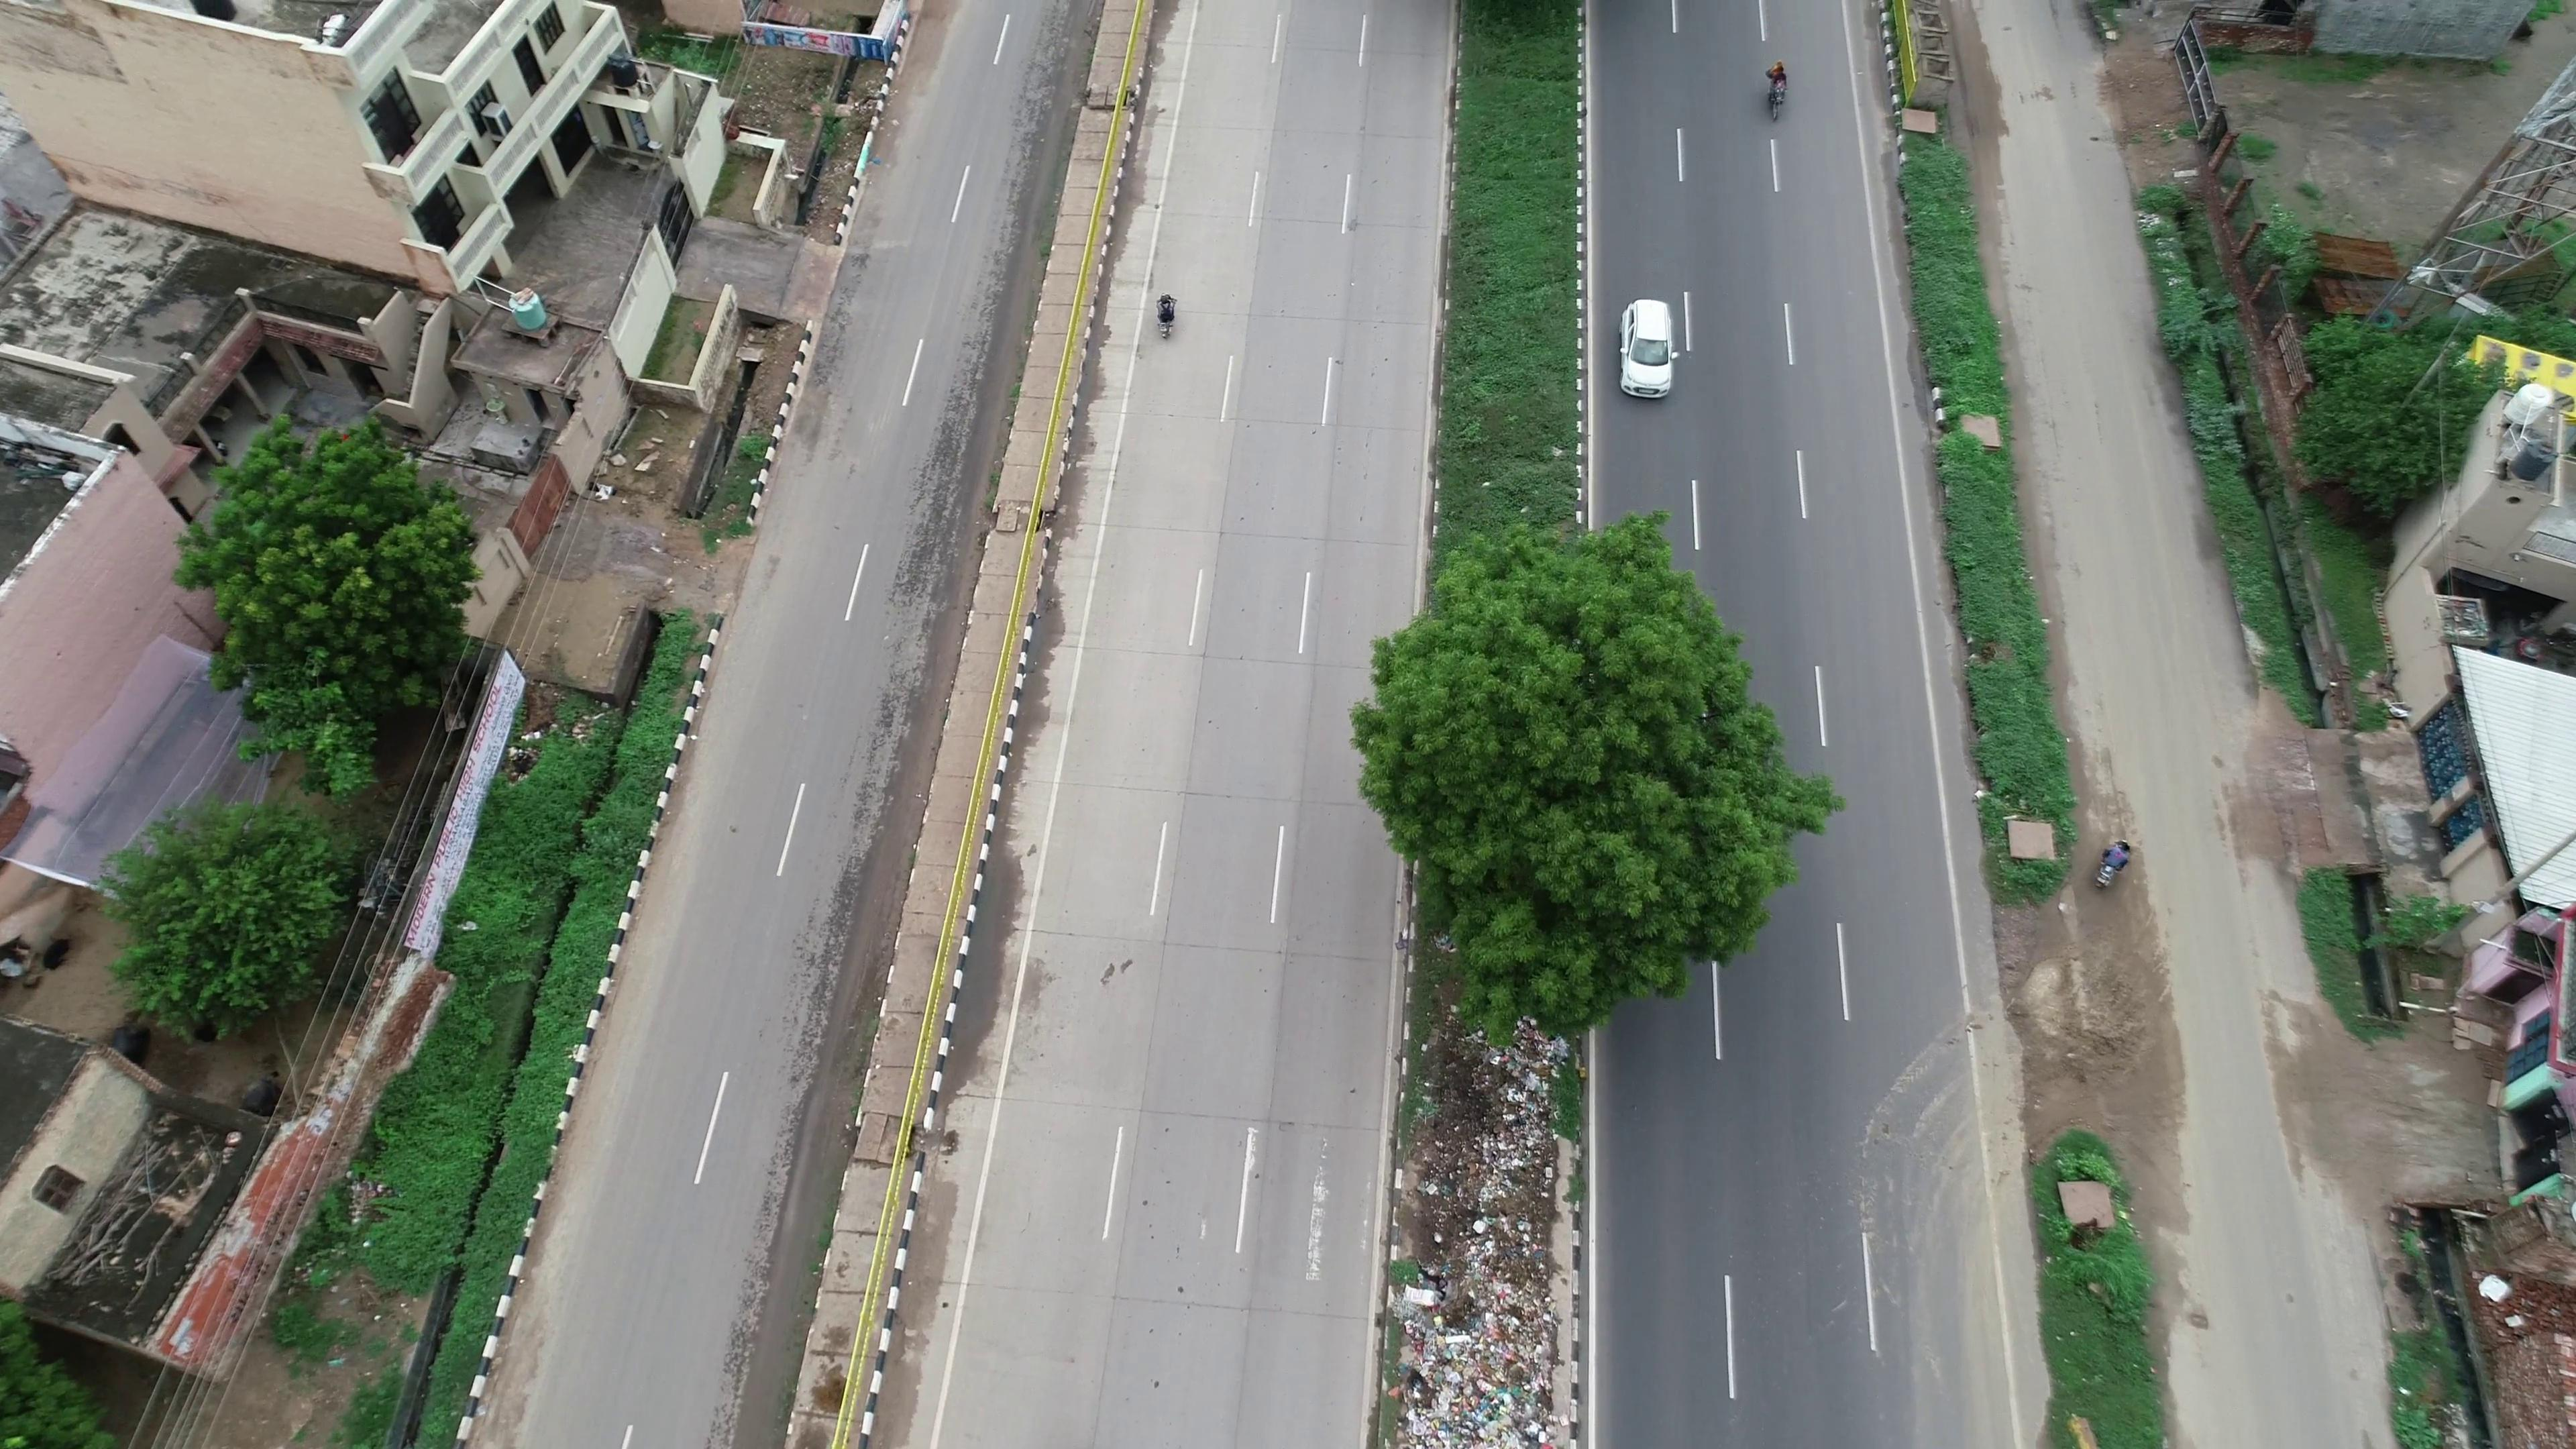Road_side_garbage: (1373, 1037, 1610, 1440)
